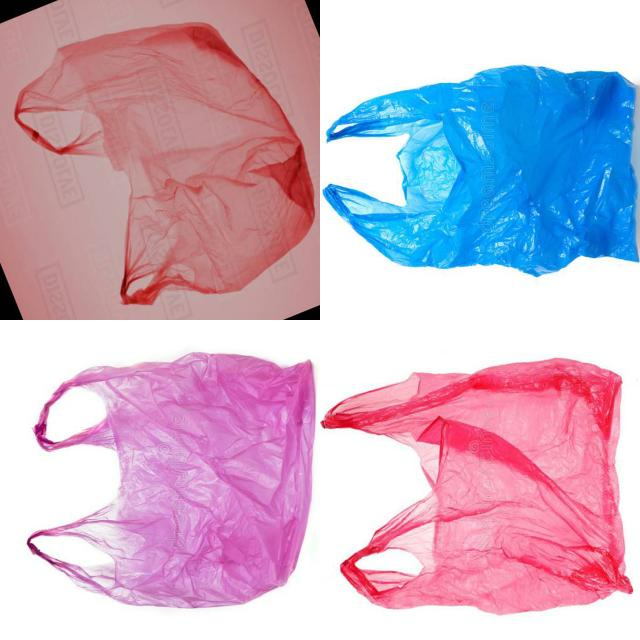Single-layer Plastic: (15, 22, 315, 305), (322, 359, 632, 614), (28, 352, 314, 608), (324, 66, 638, 275)
